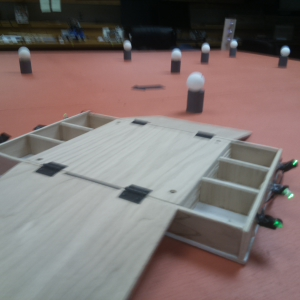corner: (223, 17, 236, 51)
obstacle: (186, 72, 205, 110), (17, 47, 33, 74), (171, 47, 183, 73), (279, 45, 290, 71), (229, 39, 241, 57), (123, 41, 132, 61), (202, 43, 211, 62)
side: (244, 148, 300, 262)
slope: (1, 161, 173, 300), (129, 108, 260, 143)
start: (132, 83, 166, 92)
